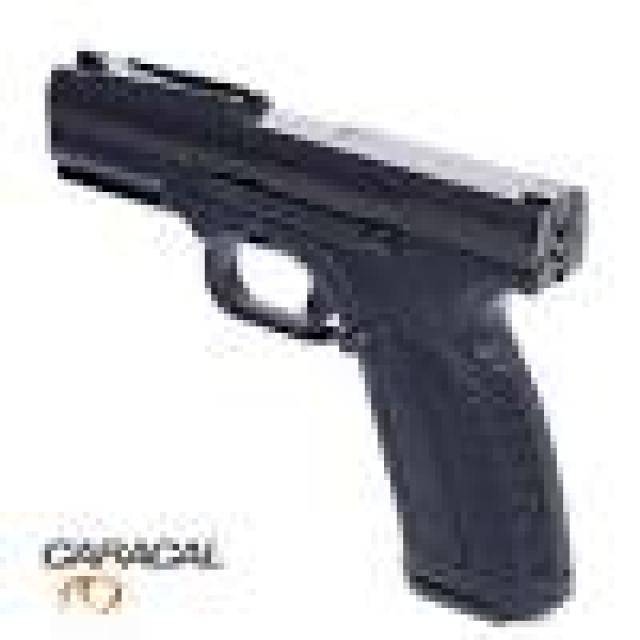Gun: (53, 31, 589, 622)
